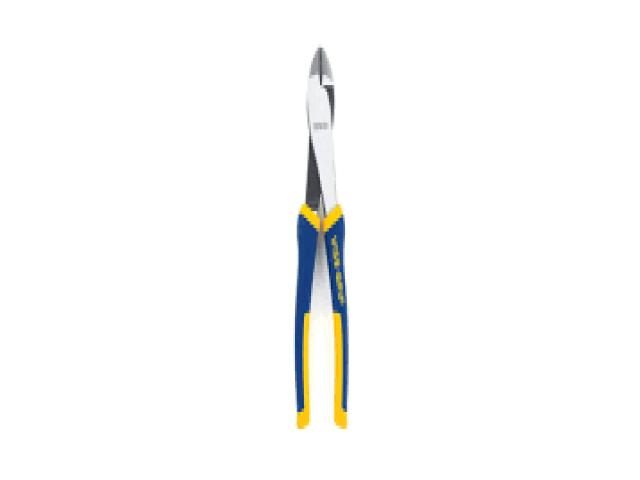Cutting pliers: (296, 48, 345, 427)
